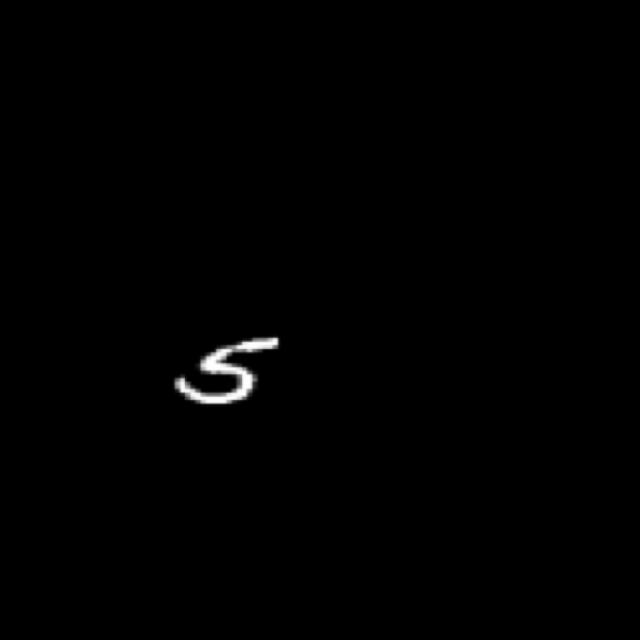five -5-: (168, 331, 286, 410)
